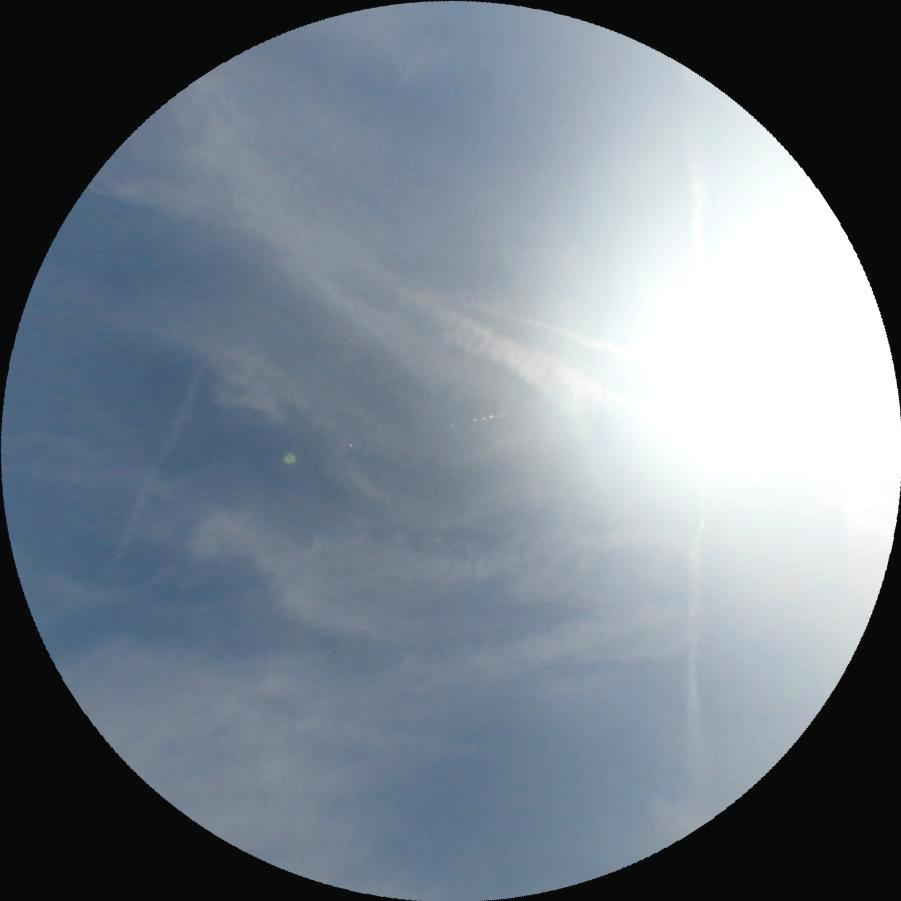contrail old: (680, 175, 713, 794), (444, 288, 669, 369)
contrail veryold: (185, 507, 677, 631), (380, 277, 655, 446), (313, 600, 685, 716), (96, 362, 213, 580)
sun: (634, 193, 901, 495)
